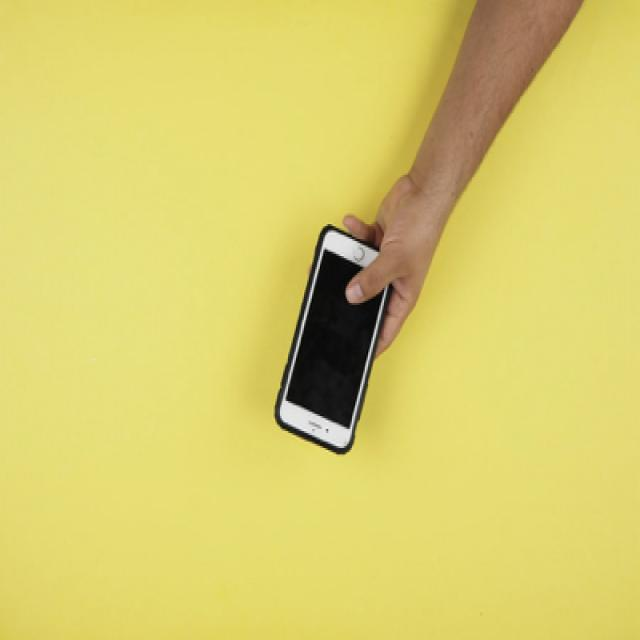cellphone: (274, 222, 391, 454)
